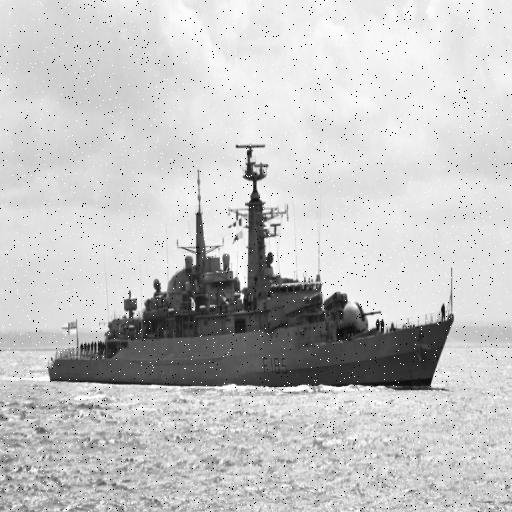Fragata: (46, 137, 457, 393)
